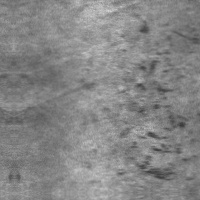rolled-in_scale: (114, 25, 199, 186)
